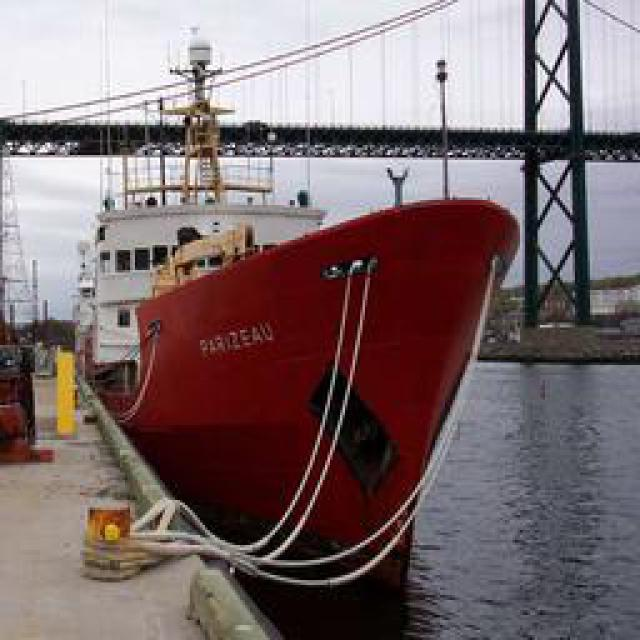Ship: (73, 165, 528, 595)
